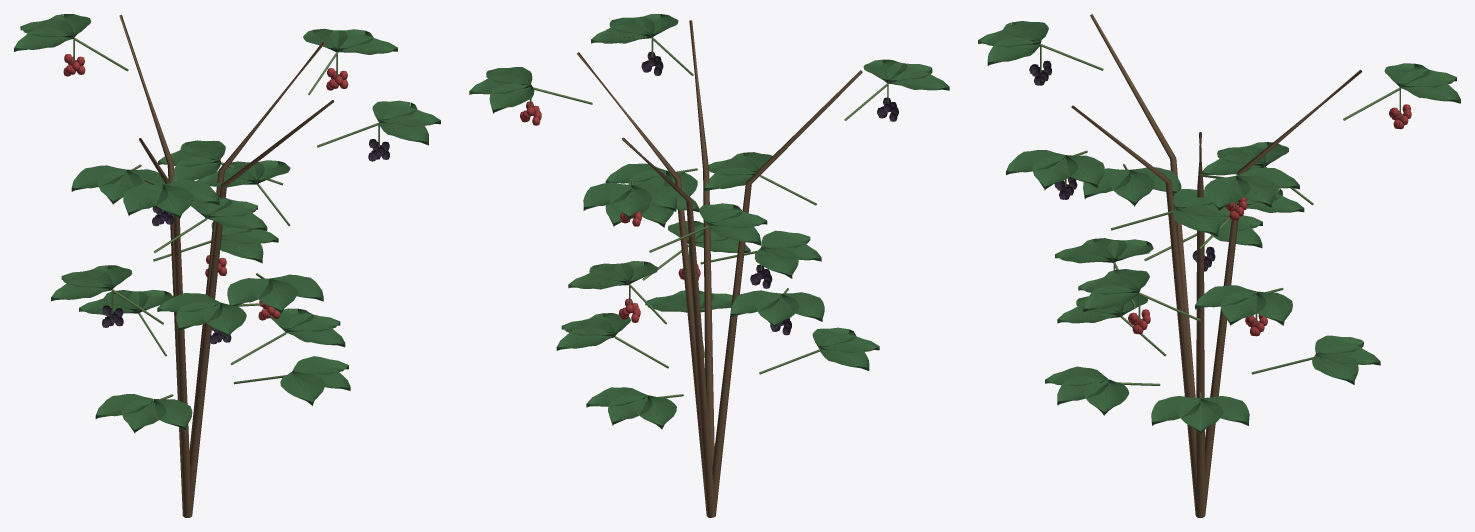
Rendered from mora_de_castilla.glb.
The picture shows the model from 3 angles, left to right: view 1: azimuth 30°, elevation 25°; view 2: azimuth 150°, elevation 25°; view 3: azimuth 270°, elevation 25°; orthographic projection. The views are drawn at different scales.
Parts seen in each view (by area): view 1: mora_de_castilla; view 2: mora_de_castilla; view 3: mora_de_castilla.
Part boxes in pixels (box(x1,y1,x2,y2)): mora_de_castilla: box(14, 14, 440, 517); mora_de_castilla: box(469, 14, 949, 517); mora_de_castilla: box(978, 14, 1460, 517).
Bounding box in the file's own units: 1.09 × 1.24 × 1.2.
